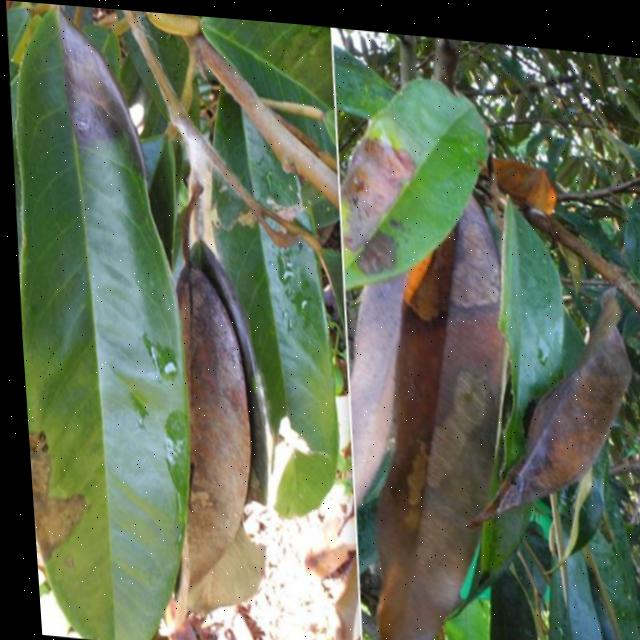Leaf_Blight: (130, 248, 305, 580), (1, 0, 191, 296), (464, 256, 640, 548), (366, 188, 522, 369), (321, 76, 434, 289)
